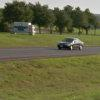Tree: (18, 0, 100, 30)
